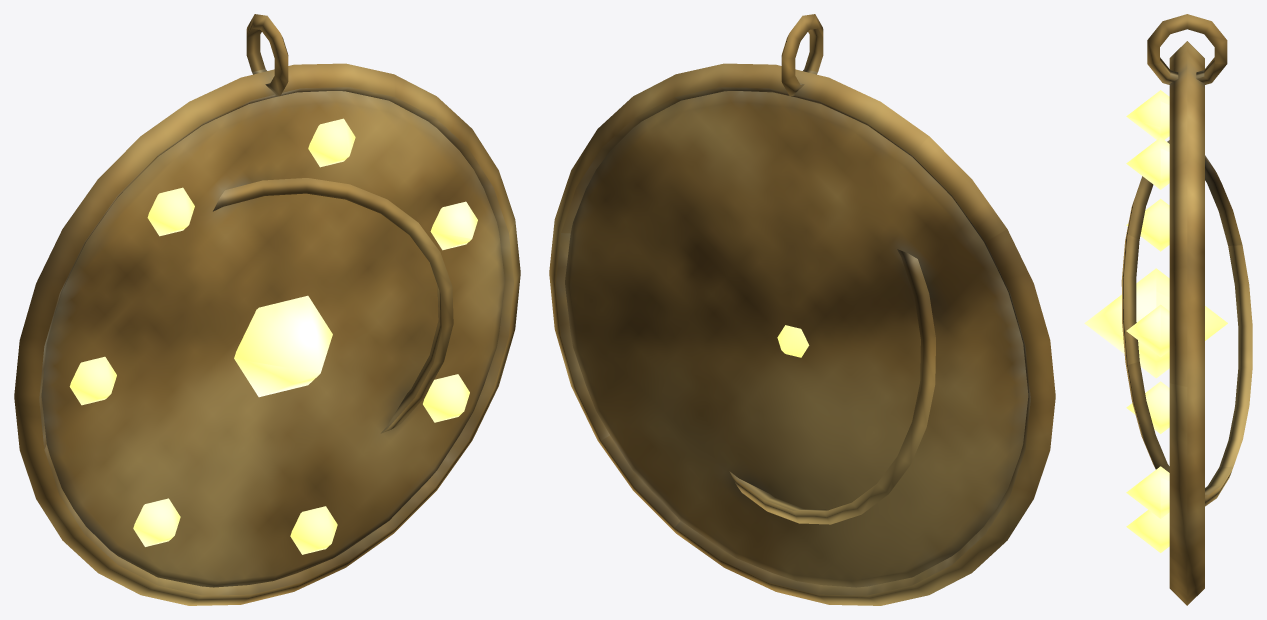
File: Starfall.fbx
The picture shows the model from 3 angles, left to right: view 1: azimuth 30°, elevation 25°; view 2: azimuth 150°, elevation 25°; view 3: azimuth 270°, elevation 25°; orthographic projection. The views are drawn at different scales.
Parts seen in each view (by area): view 1: Starfall; view 2: Starfall; view 3: Starfall.
Boxes of the visible parts, bbox=[...] form: Starfall: bbox=[14, 14, 520, 605]; Starfall: bbox=[549, 14, 1055, 605]; Starfall: bbox=[1084, 14, 1252, 605].
Size of the model in its own units: 0.256 by 0.2813 by 0.076.
